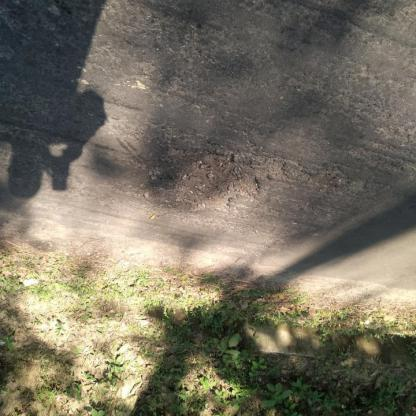pothole: (167, 145, 293, 216)
